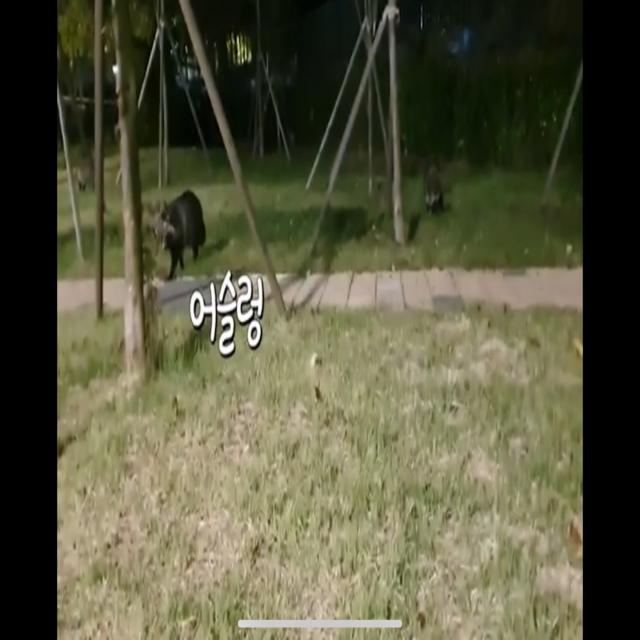racoon: (157, 187, 211, 280), (422, 156, 447, 220)
